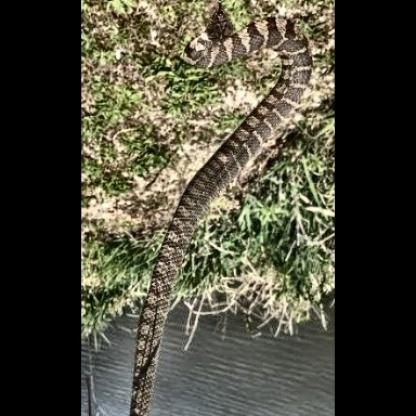Snake: (88, 16, 310, 412)
